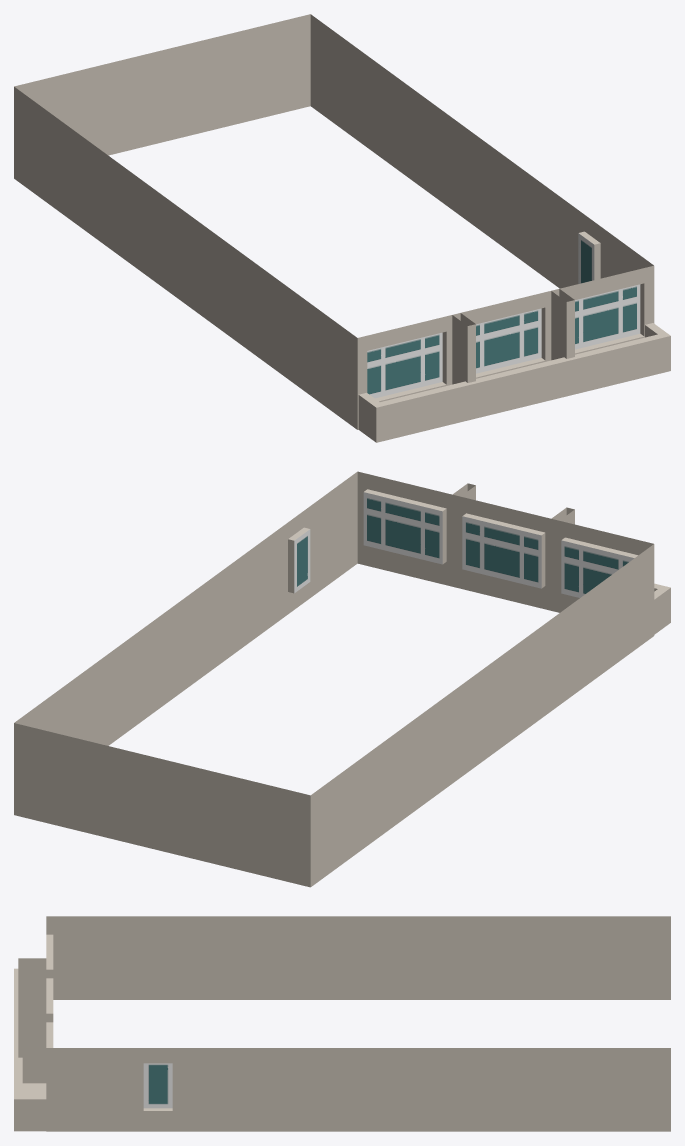
File: Town_Bld-Lrg_FloorB.FBX
The picture shows the model from 3 angles, top to bottom: view 1: azimuth 30°, elevation 25°; view 2: azimuth 150°, elevation 25°; view 3: azimuth 270°, elevation 25°; orthographic projection. The views are drawn at different scales.
Visible parts, largest first — view 1: Town_Bld-Lrg_FloorB; view 2: Town_Bld-Lrg_FloorB; view 3: Town_Bld-Lrg_FloorB.
Part boxes in pixels (left/top/right/bottom): Town_Bld-Lrg_FloorB: left=14, top=14, right=670, bottom=442; Town_Bld-Lrg_FloorB: left=14, top=471, right=670, bottom=887; Town_Bld-Lrg_FloorB: left=14, top=916, right=670, bottom=1131.
Size of the model in its own units: 600 by 178 by 1266.
